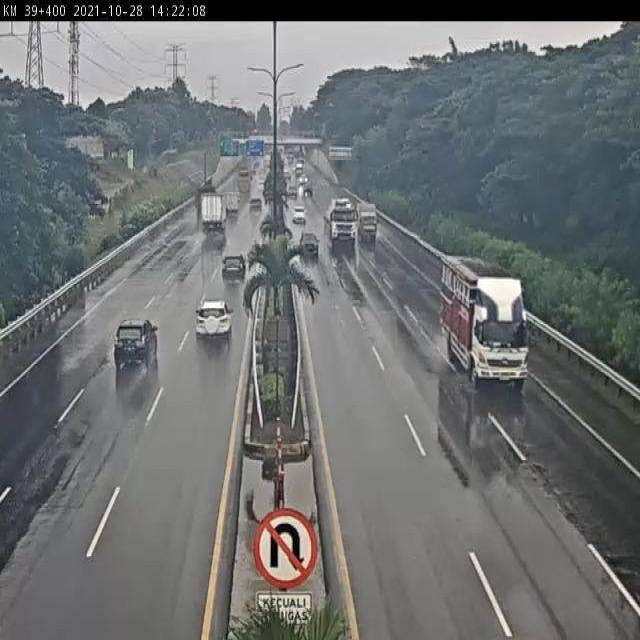car: (111, 316, 165, 372), (190, 296, 236, 347), (220, 252, 247, 284), (299, 228, 320, 256)
truck-l-: (439, 256, 531, 387), (198, 192, 230, 236)
truck-s-: (355, 201, 379, 251)
truck-xl-: (323, 195, 357, 249)
